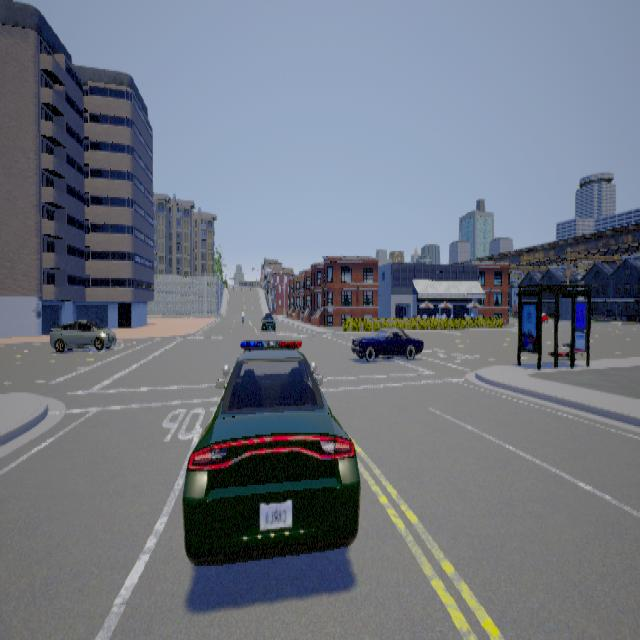vehicle: (183, 339, 362, 564), (352, 327, 425, 362), (51, 318, 118, 352), (258, 306, 279, 334)
